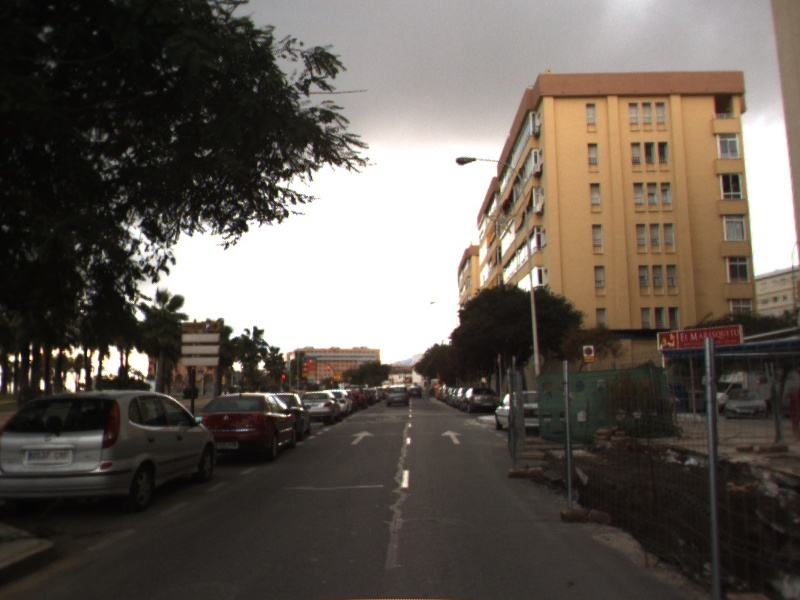STRAIGHT: (439, 428, 465, 445), (349, 429, 375, 446)
